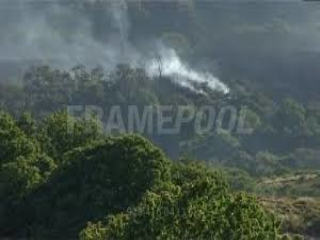smoke: (122, 40, 242, 100)
